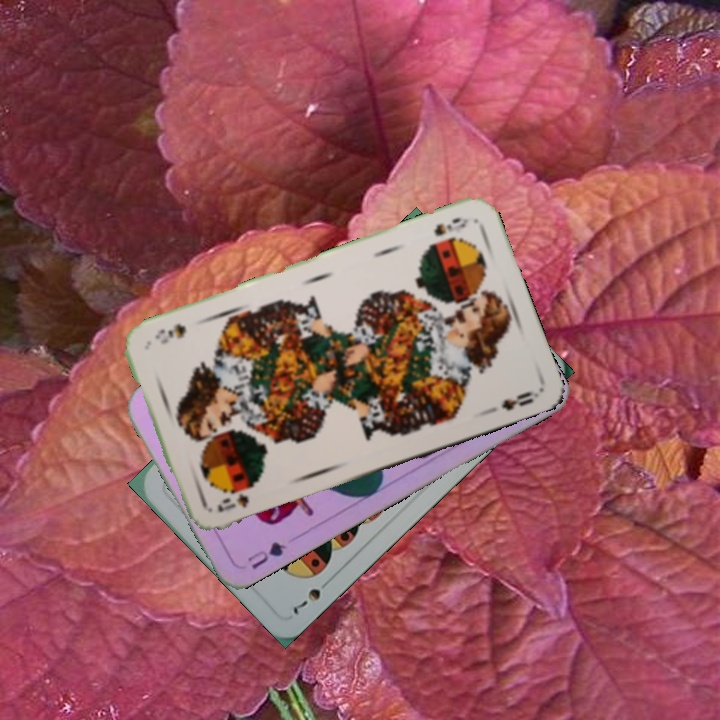GU: (243, 537, 289, 572)
S7: (288, 573, 335, 618)
SO: (430, 213, 471, 239), (213, 489, 252, 515)
